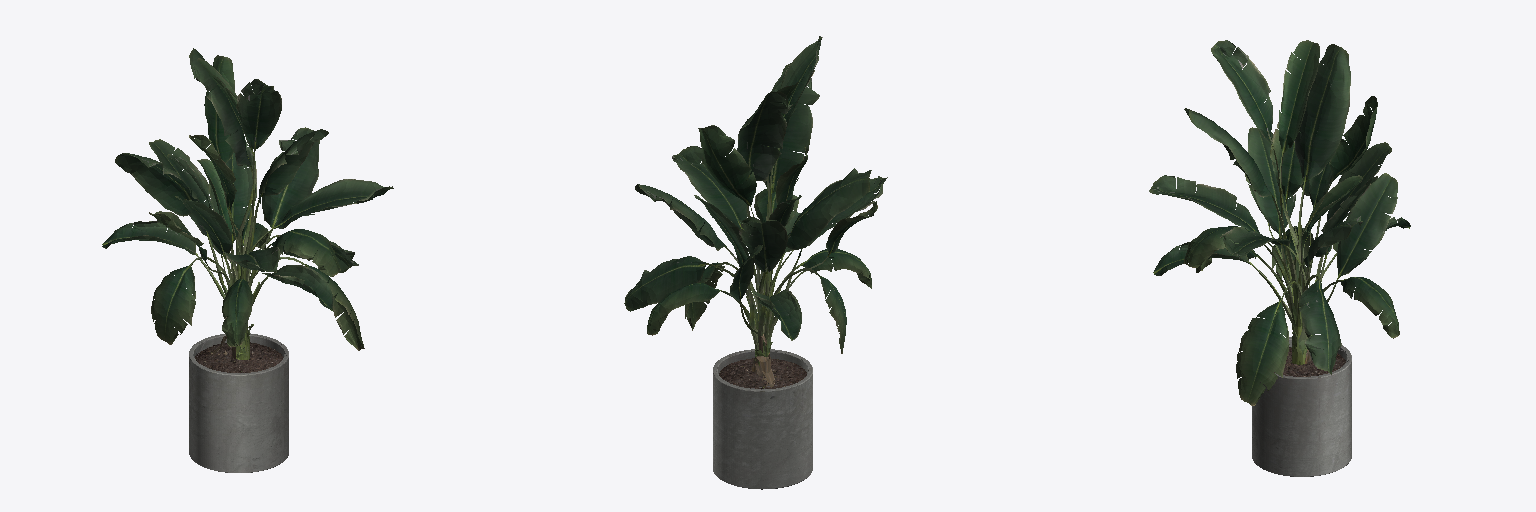
3 renders of one model, left to right at view 1: azimuth 30°, elevation 25°; view 2: azimuth 150°, elevation 25°; view 3: azimuth 270°, elevation 25°, orthographic.
Visible parts, largest first — view 1: solid_001, solid_002, solid_006, solid_008, solid_005, solid_004; view 2: solid_001, solid_002, solid_006, solid_008, solid_005, solid_004, solid_007; view 3: solid_001, solid_002, solid_006, solid_008, solid_005, solid_004.
Part boxes in pixels (x1,y1,x2,y2): solid_001: (102, 48, 393, 310); solid_002: (189, 333, 288, 472); solid_006: (149, 135, 364, 350); solid_008: (197, 55, 252, 234); solid_005: (190, 151, 304, 359); solid_004: (195, 342, 283, 372); solid_001: (624, 36, 887, 340); solid_002: (713, 349, 812, 489); solid_006: (647, 145, 877, 353); solid_008: (698, 82, 798, 227); solid_005: (707, 166, 827, 365); solid_004: (719, 358, 806, 388); solid_007: (752, 334, 775, 387); solid_001: (1149, 40, 1410, 374); solid_002: (1252, 337, 1351, 476); solid_006: (1184, 122, 1399, 405); solid_008: (1279, 40, 1377, 241); solid_005: (1250, 144, 1340, 364); solid_004: (1274, 347, 1345, 376).
Size of the model in its own units: 0.4806 by 0.7677 by 0.4494.
1 materials, 1 textured.